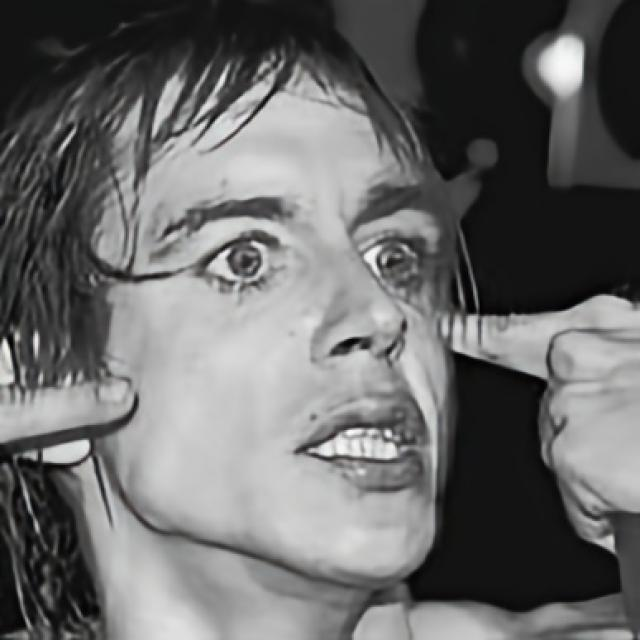Fear: (82, 44, 462, 592)
